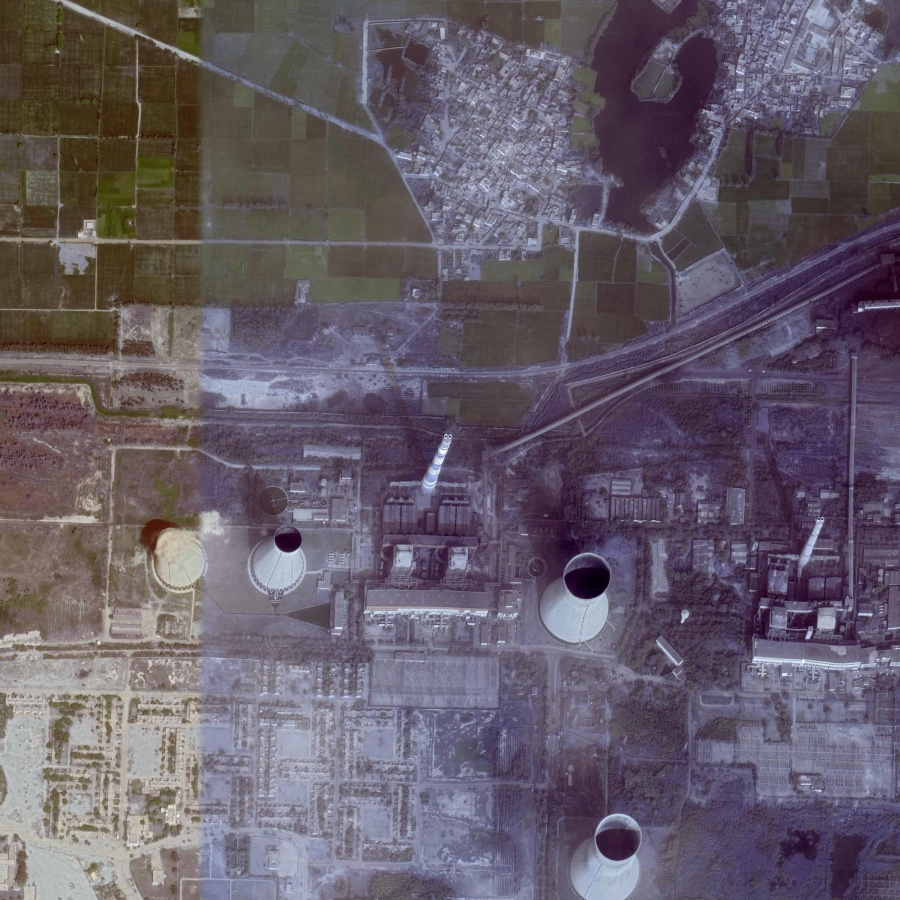PowerPlant: (143, 356, 619, 652)
